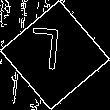L_S: (38, 28, 72, 82)
